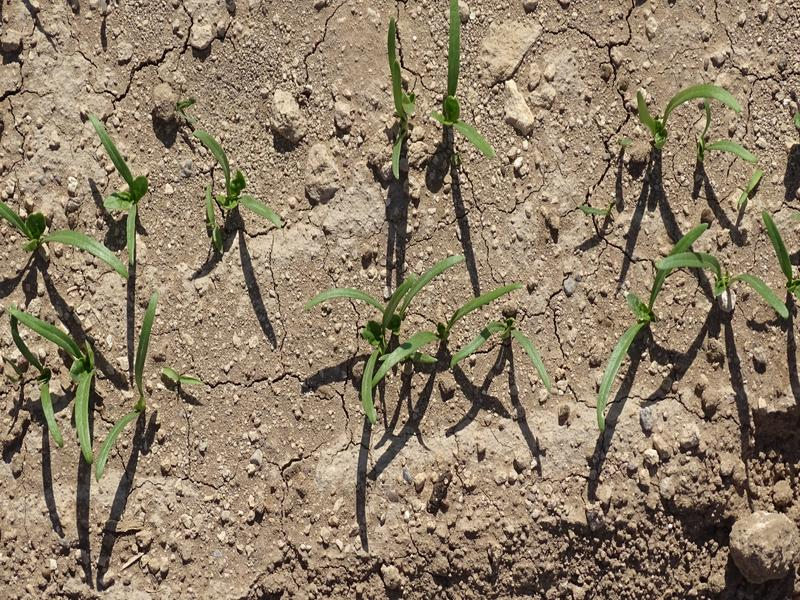Espinaca: (593, 221, 786, 416), (311, 256, 561, 402), (1, 282, 159, 467), (376, 1, 509, 175), (4, 113, 143, 271), (629, 84, 767, 205), (185, 126, 293, 241)
